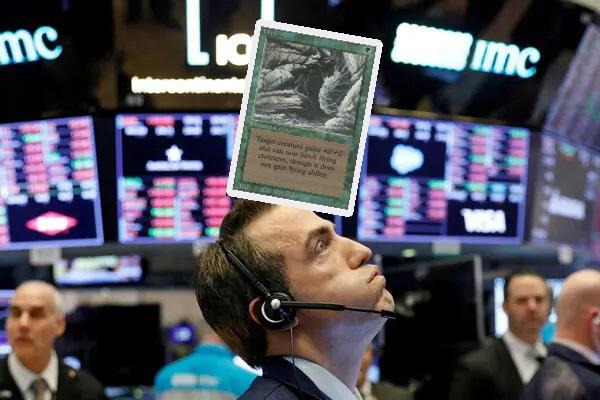mtgCard: (225, 18, 384, 218)
